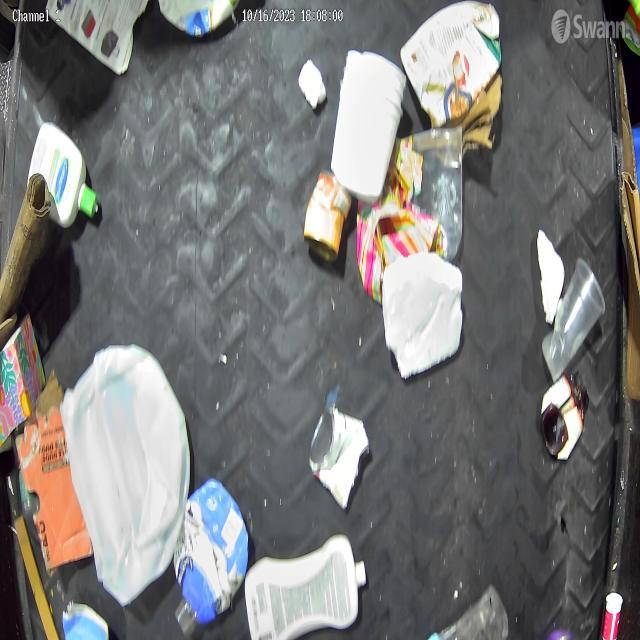can: (311, 406, 368, 505), (303, 174, 351, 258)
milk_jug: (61, 343, 193, 608)
